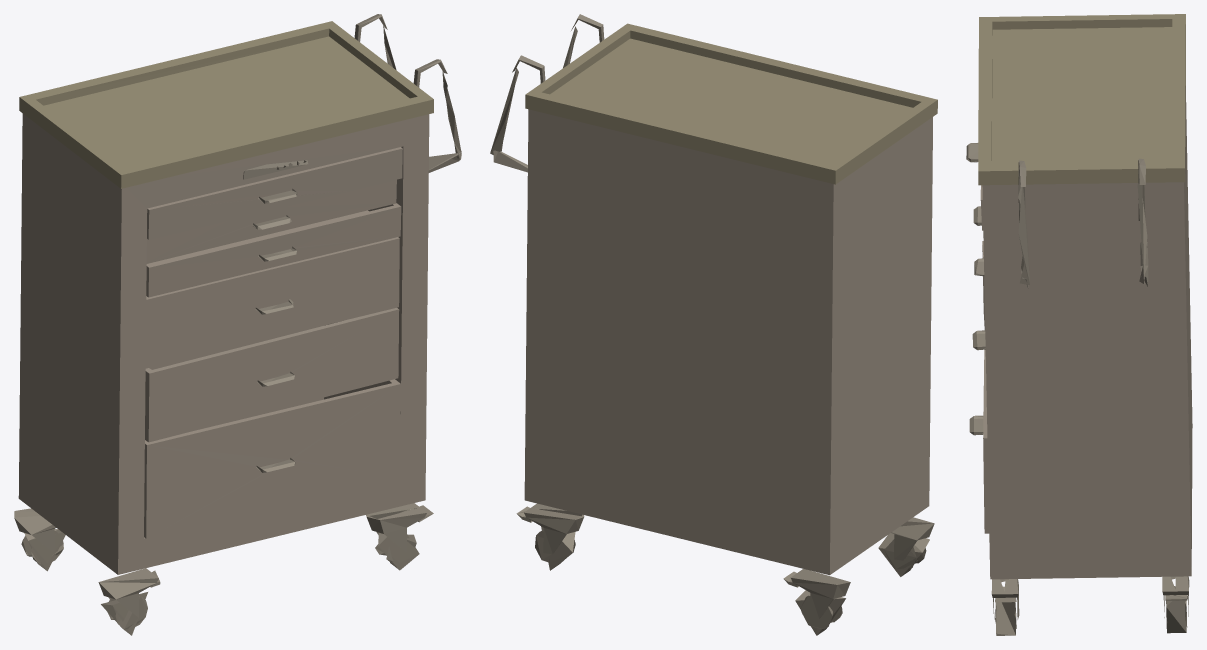
File: rusty-cart.lod1.glb
3 renders of one model, left to right at view 1: azimuth 30°, elevation 25°; view 2: azimuth 150°, elevation 25°; view 3: azimuth 270°, elevation 25°, orthographic.
Parts seen in each view (by area): view 1: Object_2; view 2: Object_2; view 3: Object_2.
Boxes of the visible parts, x1,y1,x2,y2 form: Object_2: [14, 14, 461, 635]; Object_2: [490, 14, 937, 635]; Object_2: [966, 14, 1192, 635].
Bounding box in the file's own units: 0.7975 × 0.9903 × 0.408.
